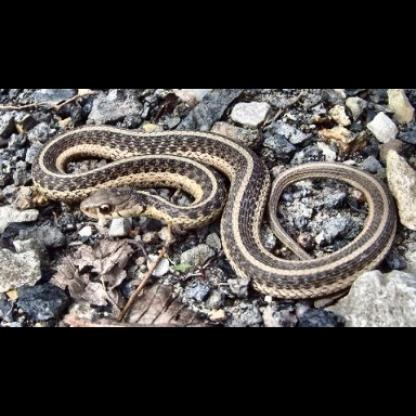Snake: (30, 130, 391, 300)
